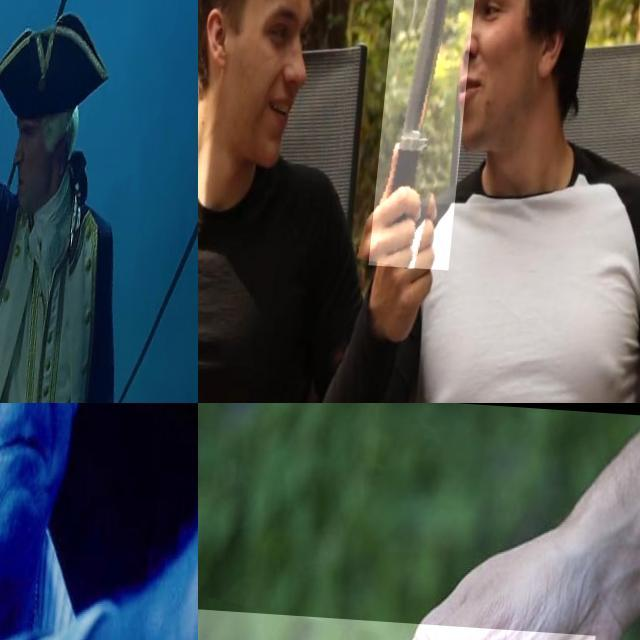-: (376, 0, 482, 265)
gun-knife-thesis - v11 Yolov5 augmented: (52, 403, 198, 550), (0, 64, 80, 201)
